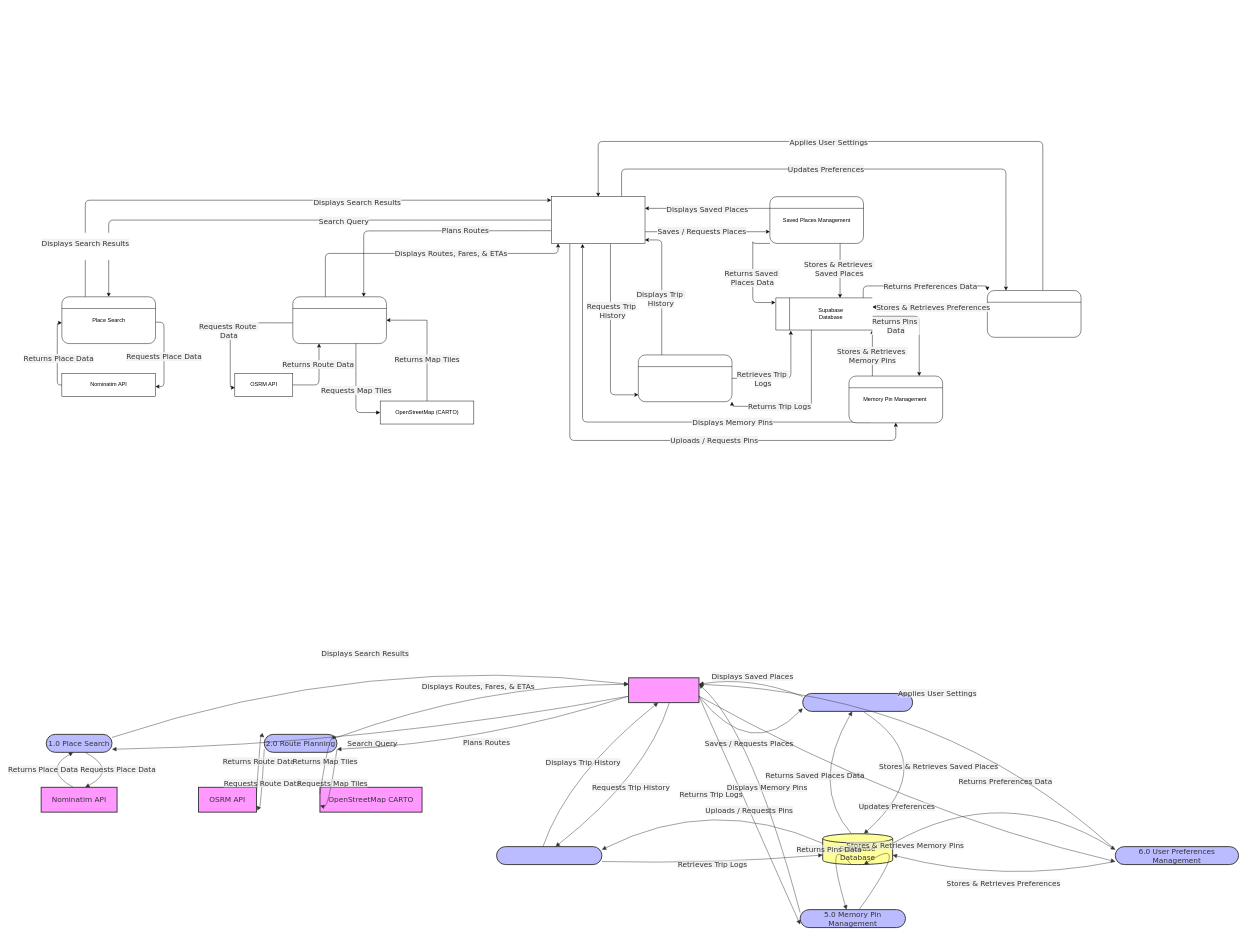
This 1247x936 diagram has some shape labels left out. Here are the shapes that lost their labels. From the top down, the box of each, then its label:
(551, 196, 645, 243): User
(292, 296, 386, 344): Route Planning
(987, 290, 1081, 337): User Preference Management
(638, 354, 732, 402): Trip History Management
(628, 677, 699, 703): User / Client
(802, 693, 913, 712): 3.0 Saved Places Management
(496, 846, 602, 865): 4.0 Trip History Management
